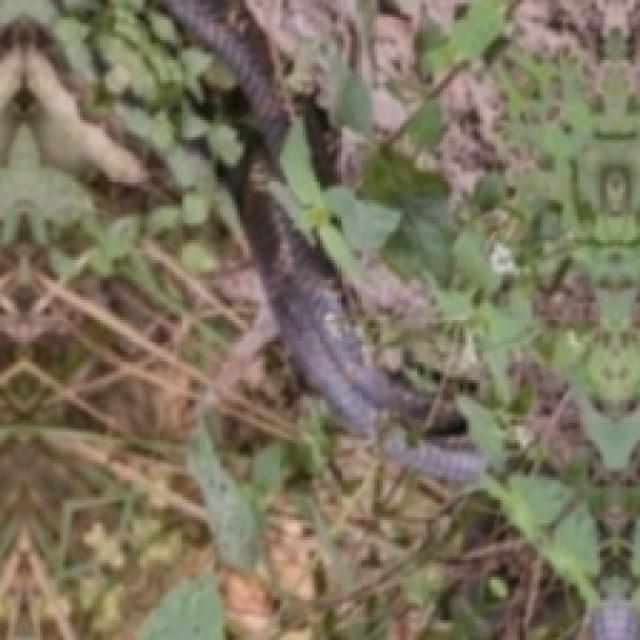king cobra: (163, 0, 637, 637)
